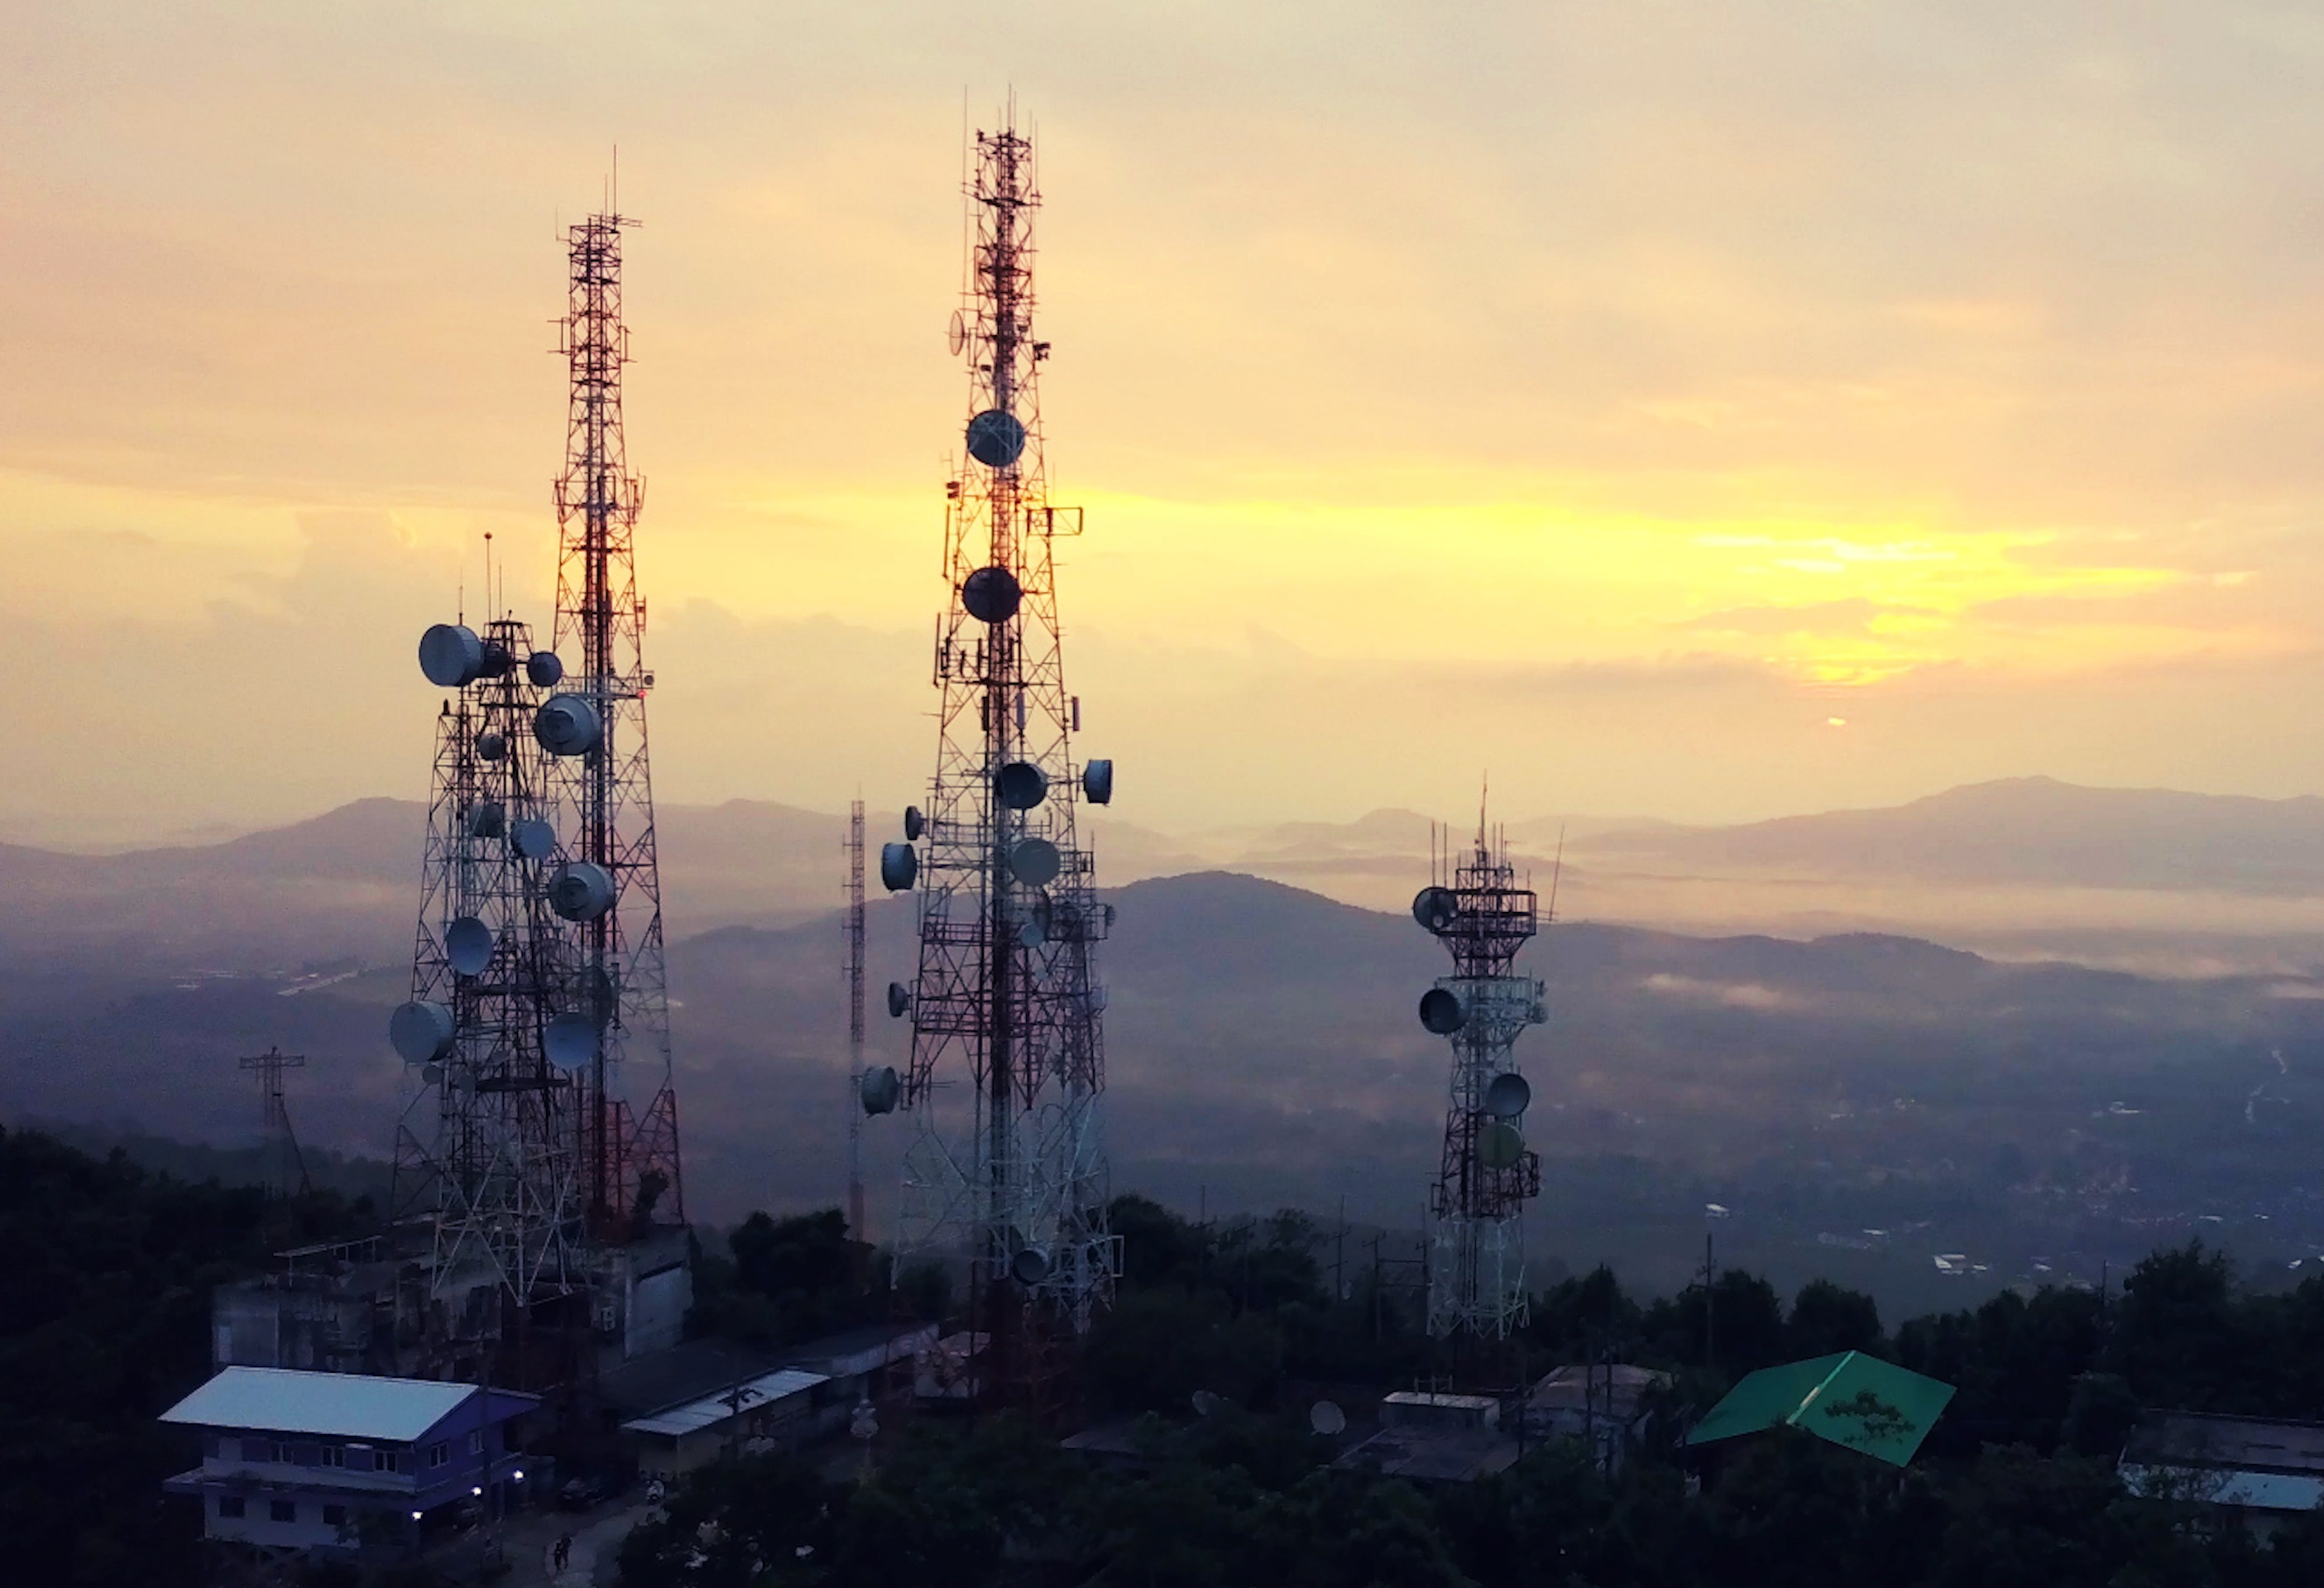ba: (939, 376, 1030, 500), (403, 616, 487, 708), (383, 982, 459, 1072), (512, 701, 602, 770), (973, 562, 1026, 643)
